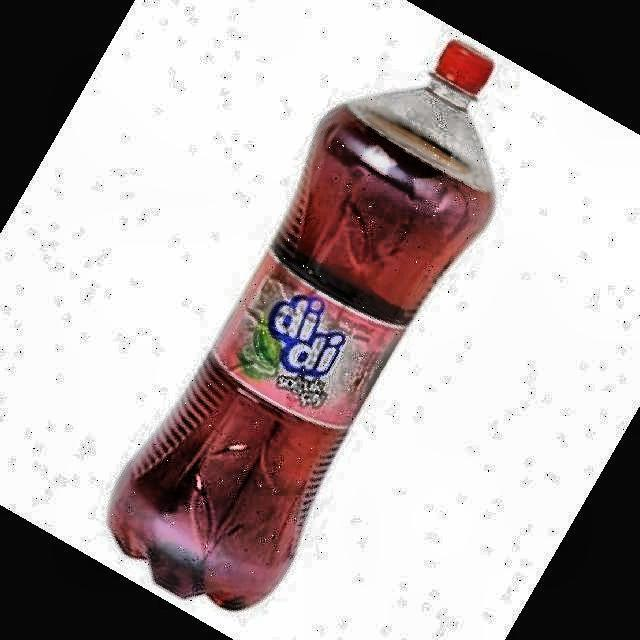plastic: (109, 40, 494, 609)
